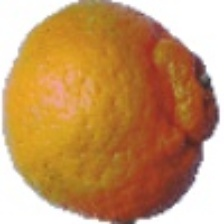tangerine: (38, 28, 176, 224)
